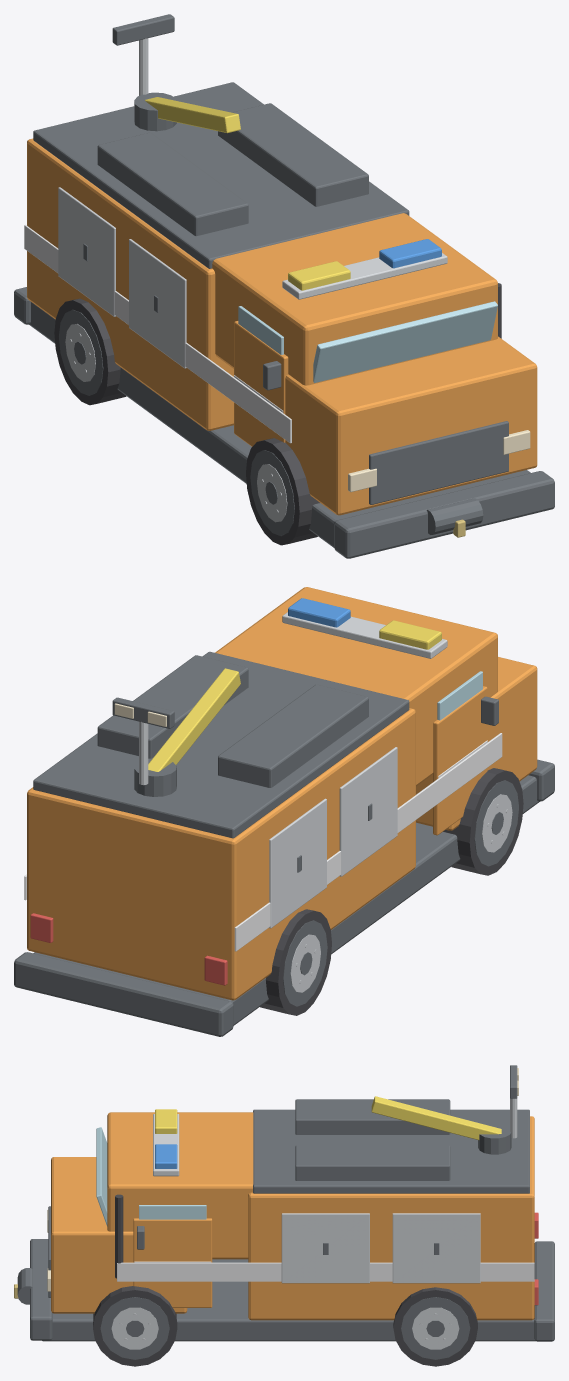
File: SM_RescueTruck.fbx
3 views of the same model, one above another, from view 1: azimuth 30°, elevation 25°; view 2: azimuth 150°, elevation 25°; view 3: azimuth 270°, elevation 25° (orthographic). The views are drawn at different scales.
Parts seen in each view (by area): view 1: RescueTruck_Body, Wheel_FL_Pivot, Wheel_RL_Pivot, Door_FL_Hinge, CraneBoom_Pivot, Lightbar_Frame, Winch_Pivot, Beacon_Amber_Lens, Beacon_Blue_Lens; view 2: RescueTruck_Body, Door_FL_Hinge, CraneBoom_Pivot, Wheel_FL_Pivot, Wheel_RL_Pivot, Lightbar_Frame, Beacon_Amber_Lens, Beacon_Blue_Lens, Taillight_R_Lens, Taillight_L_Lens; view 3: RescueTruck_Body, Door_FR_Hinge, Wheel_FR_Pivot, Wheel_RR_Pivot, CraneBoom_Pivot, Lightbar_Frame, Beacon_Amber_Lens, Beacon_Blue_Lens, Winch_Pivot.
Part boxes in pixels (box(x1,y1,x2,y2)): RescueTruck_Body: box(14, 82, 554, 558); Wheel_FL_Pivot: box(246, 438, 319, 545); Wheel_RL_Pivot: box(54, 298, 126, 405); Door_FL_Hinge: box(234, 306, 288, 446); CraneBoom_Pivot: box(112, 14, 240, 133); Lightbar_Frame: box(282, 253, 447, 299); Winch_Pivot: box(426, 498, 483, 537); Beacon_Amber_Lens: box(288, 261, 350, 290); Beacon_Blue_Lens: box(379, 239, 441, 268); RescueTruck_Body: box(14, 587, 554, 1036); Door_FL_Hinge: box(433, 671, 498, 835); CraneBoom_Pivot: box(112, 668, 240, 796); Wheel_FL_Pivot: box(443, 768, 523, 875); Wheel_RL_Pivot: box(260, 909, 331, 1015); Lightbar_Frame: box(282, 612, 447, 658); Beacon_Amber_Lens: box(379, 620, 441, 649); Beacon_Blue_Lens: box(288, 598, 350, 627); Taillight_R_Lens: box(30, 913, 53, 942); Taillight_L_Lens: box(204, 955, 227, 985); RescueTruck_Body: box(30, 1099, 554, 1341); Door_FR_Hinge: box(133, 1205, 212, 1307); Wheel_FR_Pivot: box(93, 1286, 177, 1366); Wheel_RR_Pivot: box(393, 1287, 477, 1366); CraneBoom_Pivot: box(371, 1065, 518, 1154); Lightbar_Frame: box(153, 1114, 179, 1176); Beacon_Amber_Lens: box(155, 1109, 177, 1133); Beacon_Blue_Lens: box(155, 1144, 177, 1168); Winch_Pivot: box(14, 1268, 32, 1304).
Bounding box in the file's own units: 224 × 576 × 291.
